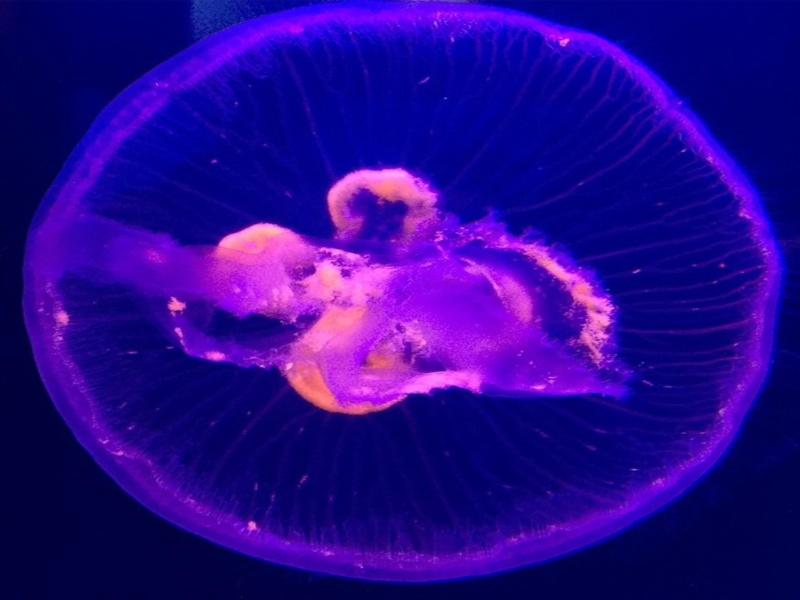Jellyfish: (34, 4, 800, 572)
